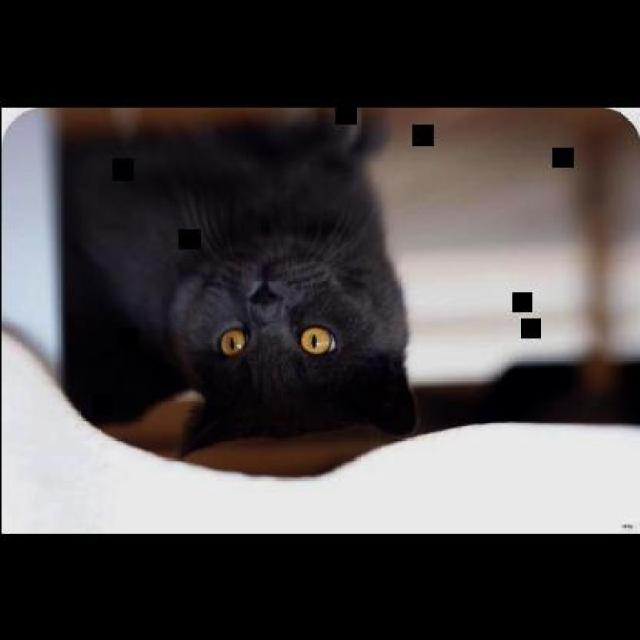unauthorized: (56, 108, 418, 458)
